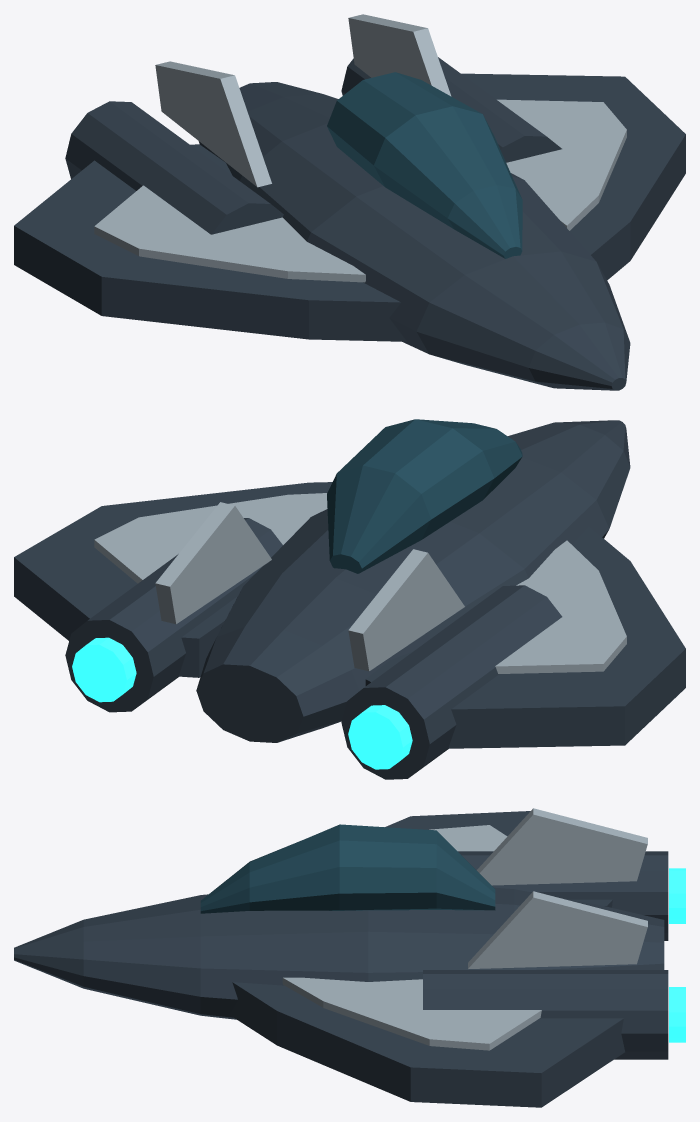
The model's file is trace_fighter.glb.
The picture shows the model from 3 angles, top to bottom: view 1: azimuth 30°, elevation 25°; view 2: azimuth 150°, elevation 25°; view 3: azimuth 270°, elevation 25°; orthographic projection. The views are drawn at different scales.
Visible parts, largest first — view 1: TraceFighter.Hull.LOD0, TraceFighter.Wing.L.LOD0, TraceFighter.Canopy.LOD0, TraceFighter.Wing.R.LOD0, TraceFighter.EngineHousing.L.LOD0, TraceFighter.WingPanel.L.LOD0, TraceFighter.WingPanel.R.LOD0, TraceFighter.TailFin.L.LOD0, TraceFighter.TailFin.R.LOD0, TraceFighter.EngineHousing.R.LOD0; view 2: TraceFighter.Hull.LOD0, TraceFighter.Wing.L.LOD0, TraceFighter.Canopy.LOD0, TraceFighter.EngineHousing.L.LOD0, TraceFighter.Wing.R.LOD0, TraceFighter.WingPanel.L.LOD0, TraceFighter.EngineHousing.R.LOD0, TraceFighter.WingPanel.R.LOD0, TraceFighter.TailFin.L.LOD0, TraceFighter.TailFin.R.LOD0, TraceFighter.EngineCore.L.LOD0, TraceFighter.EngineCore.R.LOD0; view 3: TraceFighter.Hull.LOD0, TraceFighter.Wing.R.LOD0, TraceFighter.Canopy.LOD0, TraceFighter.EngineHousing.R.LOD0, TraceFighter.TailFin.R.LOD0, TraceFighter.TailFin.L.LOD0, TraceFighter.WingPanel.R.LOD0, TraceFighter.EngineHousing.L.LOD0, TraceFighter.Wing.L.LOD0, TraceFighter.WingPanel.L.LOD0, TraceFighter.EngineCore.L.LOD0, TraceFighter.EngineCore.R.LOD0.
Boxes of the visible parts, x1=… form: TraceFighter.Hull.LOD0: x1=198, y1=82, x2=630, y2=390; TraceFighter.Wing.L.LOD0: x1=14, y1=144, x2=406, y2=341; TraceFighter.Canopy.LOD0: x1=327, y1=72, x2=522, y2=258; TraceFighter.Wing.R.LOD0: x1=461, y1=73, x2=685, y2=280; TraceFighter.EngineHousing.L.LOD0: x1=65, y1=101, x2=283, y2=234; TraceFighter.WingPanel.L.LOD0: x1=94, y1=185, x2=365, y2=282; TraceFighter.WingPanel.R.LOD0: x1=497, y1=99, x2=626, y2=230; TraceFighter.TailFin.L.LOD0: x1=155, y1=61, x2=271, y2=187; TraceFighter.TailFin.R.LOD0: x1=348, y1=14, x2=451, y2=96; TraceFighter.EngineHousing.R.LOD0: x1=341, y1=57, x2=561, y2=162; TraceFighter.Hull.LOD0: x1=196, y1=420, x2=630, y2=742; TraceFighter.Wing.L.LOD0: x1=365, y1=526, x2=685, y2=748; TraceFighter.Canopy.LOD0: x1=327, y1=419, x2=522, y2=573; TraceFighter.EngineHousing.L.LOD0: x1=341, y1=585, x2=562, y2=779; TraceFighter.Wing.R.LOD0: x1=14, y1=482, x2=332, y2=677; TraceFighter.WingPanel.L.LOD0: x1=495, y1=540, x2=626, y2=673; TraceFighter.EngineHousing.R.LOD0: x1=65, y1=518, x2=282, y2=712; TraceFighter.WingPanel.R.LOD0: x1=94, y1=493, x2=327, y2=583; TraceFighter.TailFin.L.LOD0: x1=348, y1=549, x2=464, y2=671; TraceFighter.TailFin.R.LOD0: x1=155, y1=502, x2=271, y2=624; TraceFighter.EngineCore.L.LOD0: x1=348, y1=705, x2=412, y2=769; TraceFighter.EngineCore.R.LOD0: x1=72, y1=637, x2=136, y2=702; TraceFighter.Hull.LOD0: x1=14, y1=887, x2=664, y2=1019; TraceFighter.Wing.R.LOD0: x1=229, y1=982, x2=624, y2=1107; TraceFighter.Canopy.LOD0: x1=200, y1=824, x2=495, y2=913; TraceFighter.EngineHousing.R.LOD0: x1=423, y1=970, x2=668, y2=1059; TraceFighter.TailFin.R.LOD0: x1=468, y1=891, x2=647, y2=968; TraceFighter.TailFin.L.LOD0: x1=476, y1=808, x2=647, y2=885; TraceFighter.WingPanel.R.LOD0: x1=282, y1=977, x2=541, y2=1050; TraceFighter.EngineHousing.L.LOD0: x1=458, y1=851, x2=668, y2=940; TraceFighter.Wing.L.LOD0: x1=385, y1=811, x2=612, y2=907; TraceFighter.WingPanel.L.LOD0: x1=429, y1=825, x2=507, y2=851; TraceFighter.EngineCore.L.LOD0: x1=669, y1=868, x2=685, y2=923; TraceFighter.EngineCore.R.LOD0: x1=669, y1=987, x2=685, y2=1042.
Bounding box in the file's own units: 4.56 × 1.49 × 4.93.
